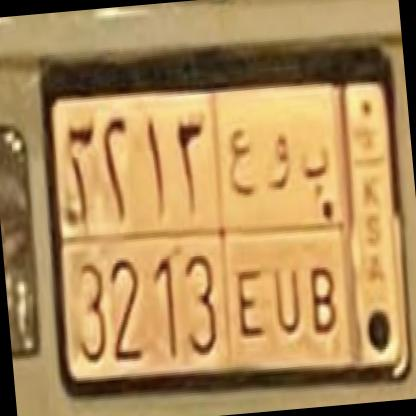english: (52, 208, 360, 399)
